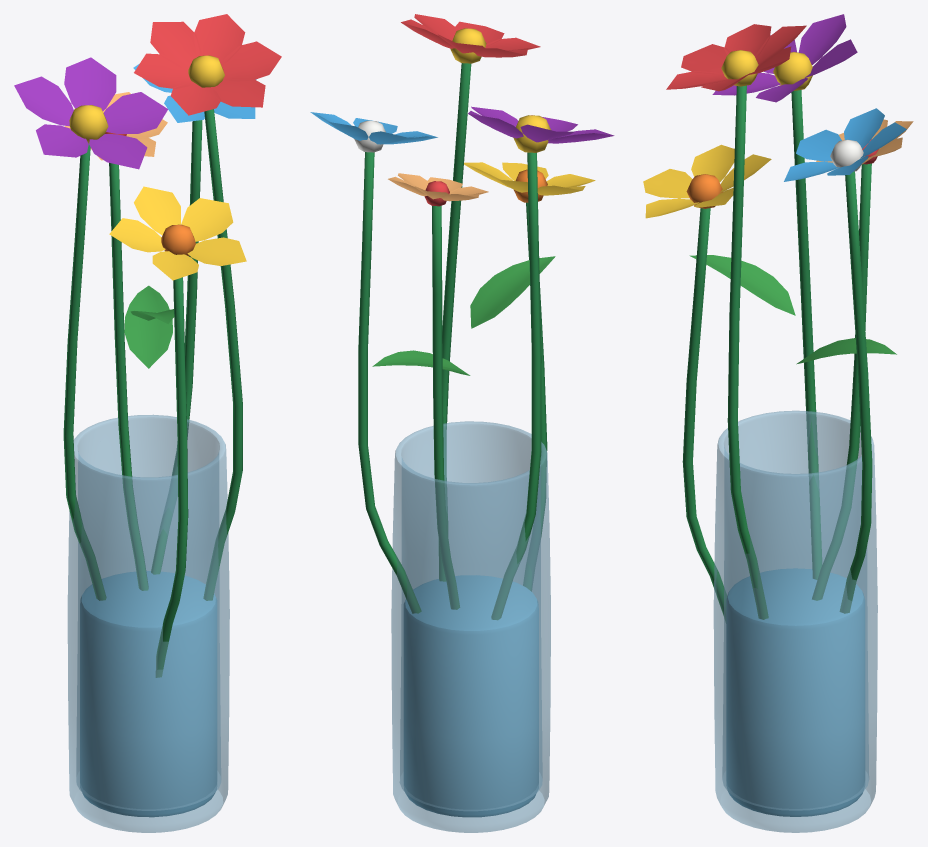
File: planta_flores_vaso_vidro.glb
3 renders of one model, left to right at view 1: azimuth 30°, elevation 25°; view 2: azimuth 150°, elevation 25°; view 3: azimuth 270°, elevation 25°, orthographic. The views are drawn at different scales.
Visible parts, largest first — view 1: planta_flores_vaso_vidro; view 2: planta_flores_vaso_vidro; view 3: planta_flores_vaso_vidro.
Part boxes in pixels (<box>): planta_flores_vaso_vidro: <box>14,14,281,832</box>; planta_flores_vaso_vidro: <box>310,14,614,832</box>; planta_flores_vaso_vidro: <box>643,14,913,832</box>.
Size of the model in its own units: 0.1716 by 0.4824 by 0.1516.
Materials: 2 (1 with a texture image).
